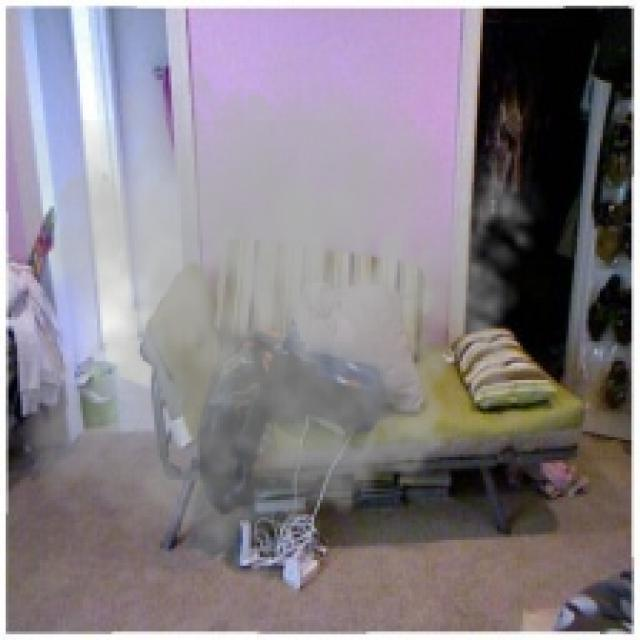Smoke: (11, 22, 552, 578)
